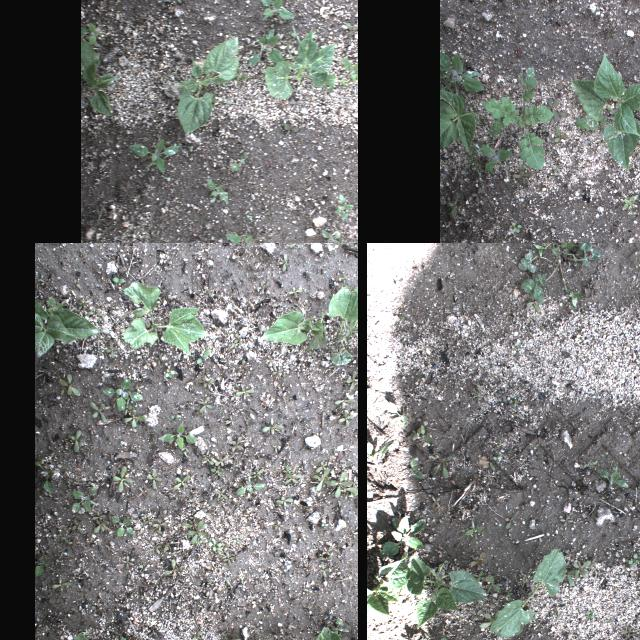crop: (440, 51, 512, 179), (570, 53, 640, 170), (490, 549, 566, 637), (174, 34, 238, 138), (124, 282, 206, 356), (408, 558, 488, 630), (262, 29, 336, 100), (34, 299, 100, 359), (366, 550, 412, 616), (262, 310, 328, 352), (327, 285, 358, 364), (301, 626, 358, 640)
weed: (482, 66, 552, 174), (518, 243, 586, 307), (84, 32, 120, 120), (120, 135, 178, 171), (378, 515, 424, 557), (246, 28, 286, 72), (102, 380, 144, 412), (156, 422, 198, 451), (366, 440, 394, 476), (180, 516, 208, 546), (72, 484, 98, 514), (206, 176, 232, 204), (260, 0, 296, 20), (332, 192, 353, 226), (596, 466, 628, 488), (384, 402, 411, 428), (429, 454, 456, 478), (35, 459, 53, 493), (224, 231, 272, 243), (546, 97, 568, 123), (446, 192, 466, 220), (329, 470, 349, 498), (577, 243, 600, 267), (111, 466, 132, 492), (58, 374, 80, 396), (312, 467, 332, 491), (122, 409, 146, 428), (112, 518, 134, 538), (34, 552, 50, 578), (464, 519, 484, 539), (50, 576, 72, 594), (163, 558, 181, 580), (86, 18, 100, 46), (470, 379, 484, 407), (233, 483, 264, 495), (408, 456, 424, 479), (92, 513, 110, 533), (262, 418, 284, 434), (486, 572, 502, 594), (343, 58, 358, 81), (146, 469, 162, 489), (526, 292, 542, 312), (574, 560, 590, 580), (322, 229, 343, 243), (70, 429, 82, 453), (172, 475, 190, 491), (470, 551, 486, 569), (90, 402, 104, 422), (48, 297, 62, 317), (489, 462, 506, 478), (554, 127, 570, 143), (196, 348, 212, 364), (480, 612, 496, 628), (104, 341, 118, 359), (198, 396, 212, 414), (340, 411, 354, 429), (506, 170, 530, 180), (334, 396, 354, 408), (346, 370, 358, 390), (198, 375, 214, 389), (284, 474, 302, 486), (235, 388, 255, 398), (274, 497, 294, 507), (338, 484, 358, 494), (520, 568, 530, 588), (419, 426, 433, 440), (472, 570, 486, 584), (122, 554, 134, 570), (212, 488, 228, 500), (230, 438, 242, 454), (287, 287, 303, 299), (151, 518, 167, 530), (621, 197, 635, 210), (501, 589, 514, 603), (278, 254, 288, 272), (238, 358, 250, 372), (222, 552, 234, 566), (560, 514, 574, 526), (86, 308, 102, 318), (110, 276, 126, 286), (214, 456, 230, 466), (319, 562, 329, 578), (302, 560, 312, 576), (206, 540, 222, 550), (506, 513, 516, 529), (621, 626, 637, 636), (567, 570, 577, 586), (217, 544, 230, 556), (232, 534, 244, 546), (628, 552, 640, 564), (154, 352, 164, 366), (251, 469, 265, 479), (336, 575, 350, 585), (144, 516, 158, 526), (148, 544, 162, 554), (513, 340, 523, 354), (412, 427, 422, 441), (211, 467, 223, 478), (315, 461, 327, 472), (49, 446, 61, 456), (164, 368, 176, 378), (229, 338, 239, 350), (273, 365, 283, 377), (230, 378, 242, 388), (150, 525, 162, 535), (472, 609, 482, 621), (348, 476, 358, 487), (580, 462, 598, 468), (73, 520, 83, 530), (77, 300, 87, 310), (191, 630, 201, 640), (511, 222, 519, 234), (226, 414, 234, 426), (552, 606, 560, 618), (432, 497, 441, 507), (40, 275, 48, 285), (322, 547, 332, 555), (203, 451, 211, 461), (235, 502, 243, 512), (232, 550, 240, 560), (513, 396, 521, 406), (589, 559, 597, 569), (289, 243, 303, 248), (60, 536, 68, 544), (350, 530, 358, 538), (323, 243, 332, 250), (163, 542, 169, 552), (170, 414, 180, 420), (337, 276, 347, 282), (586, 611, 594, 617), (564, 561, 570, 569), (492, 456, 502, 460), (638, 474, 640, 489)
